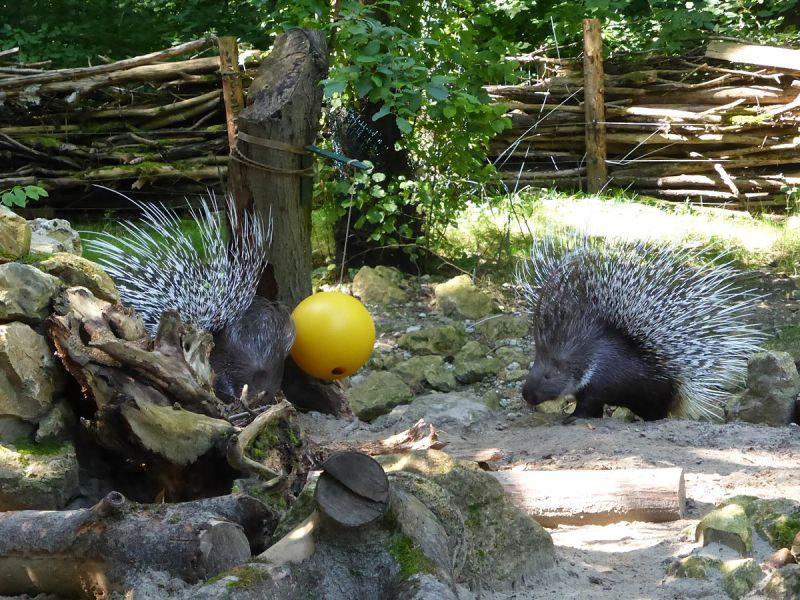porcupine: (499, 218, 775, 444), (71, 174, 298, 411)
